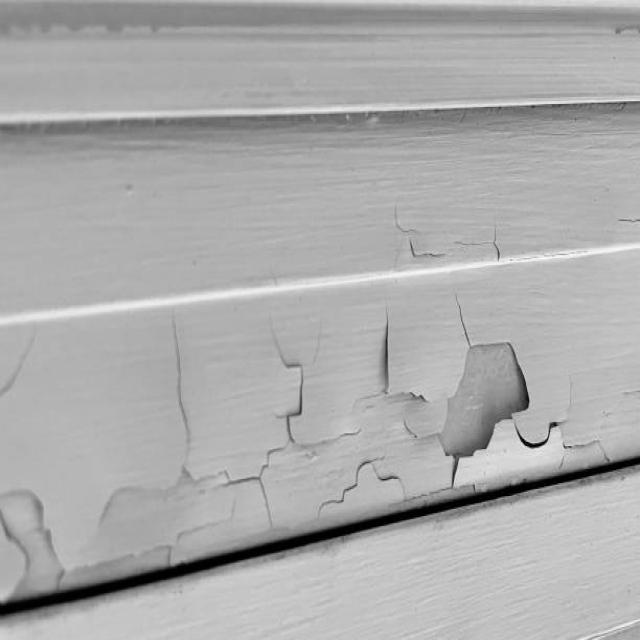peeling paint: (0, 197, 640, 611)
